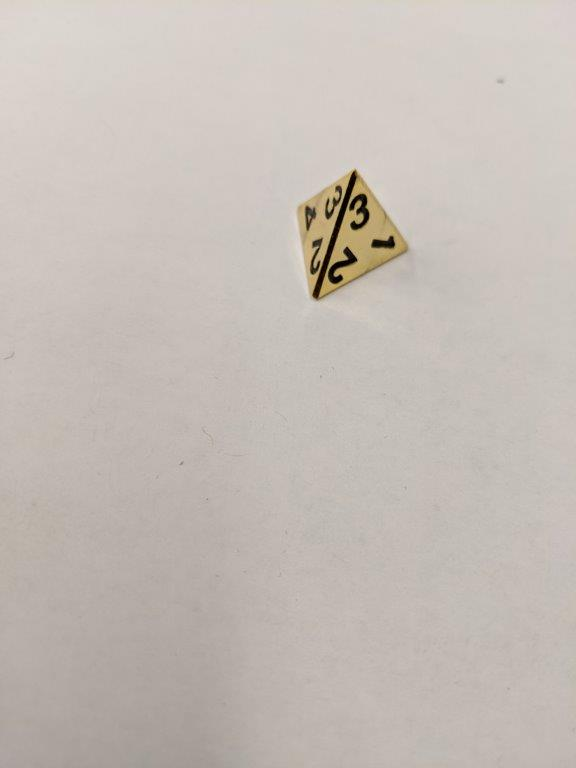d4-3: (292, 169, 416, 306)
